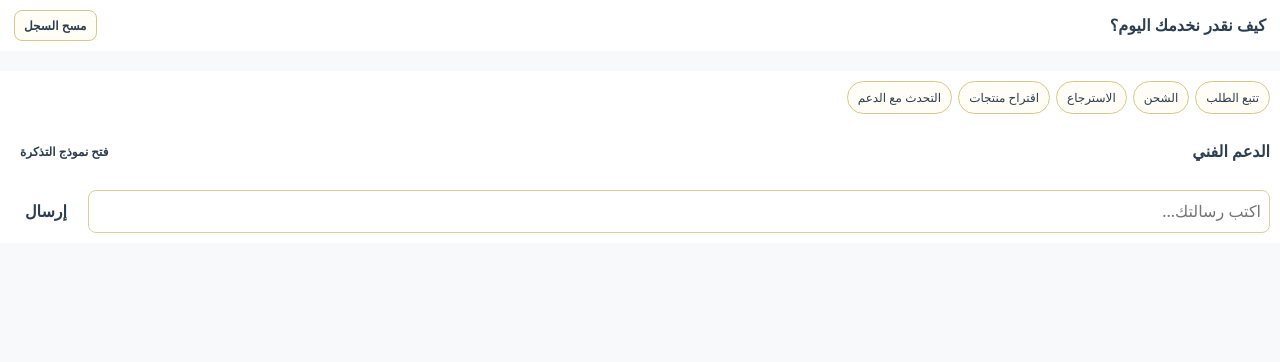
Test: ChatPanel chat flows › shows prompt when tracking is requested without order number
The image size is (1280, 362).
Step 1. Type "تتبع الطلب" into the field with placeholder "اكتب رسالتك..." → (679, 211), box [88, 190, 1270, 233]
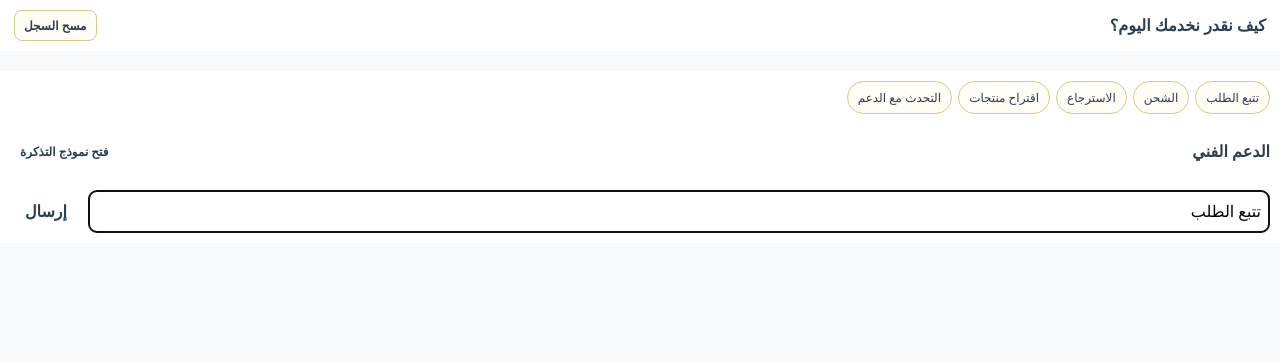
Step 2. Click the button "إرسال" → (46, 211), box [10, 190, 82, 233]
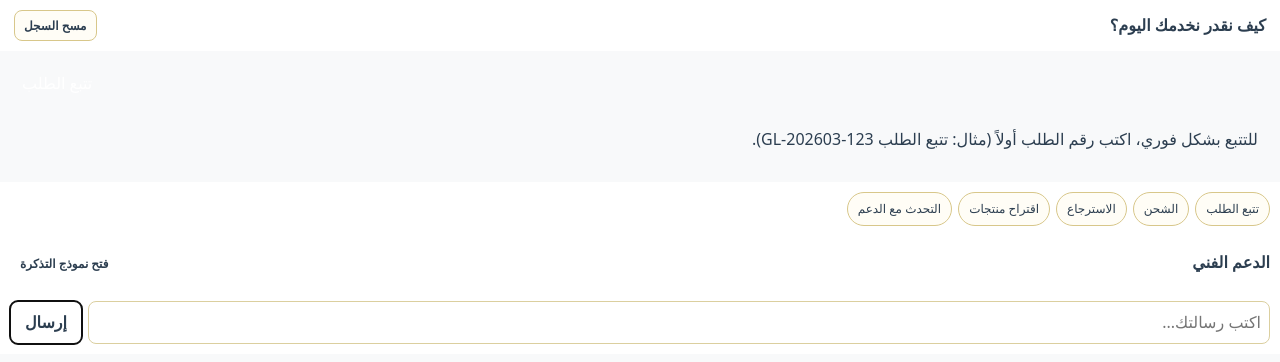
expect the text "اكتب رقم الطلب أولاً" is shown: met, box [752, 128, 1258, 150]
